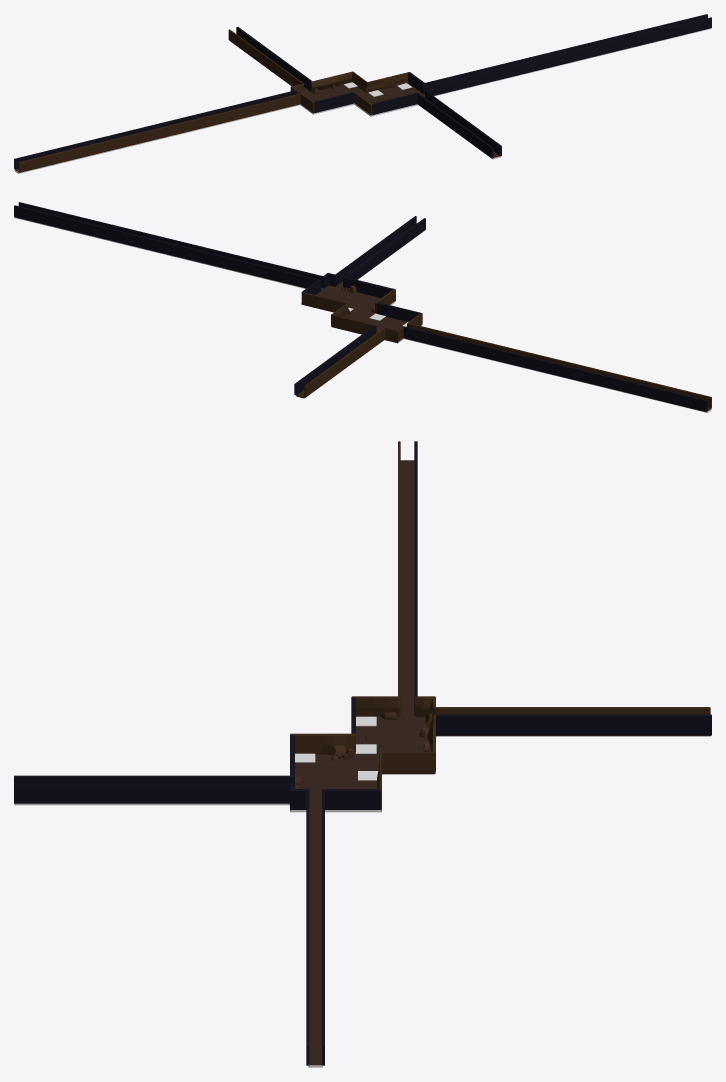
Rendered from sala15DET.fbx.
3 renders of one model, top to bottom at view 1: azimuth 30°, elevation 25°; view 2: azimuth 150°, elevation 25°; view 3: azimuth 270°, elevation 25°, orthographic. The views are drawn at different scales.
Visible parts, largest first — view 1: paredes_der_abajo15, paredes_izq_arriba15, suelo16; view 2: paredes_der_abajo15, paredes_izq_arriba15, suelo16; view 3: paredes_der_abajo15, suelo16, paredes_izq_arriba15.
Boxes of the visible parts, left/top/right/bottom form: paredes_der_abajo15: left=14, top=14, right=711, bottom=169; paredes_izq_arriba15: left=19, top=29, right=408, bottom=172; suelo16: left=14, top=28, right=710, bottom=173; paredes_der_abajo15: left=14, top=202, right=707, bottom=411; paredes_izq_arriba15: left=301, top=289, right=711, bottom=408; suelo16: left=15, top=217, right=711, bottom=412; paredes_der_abajo15: left=14, top=441, right=711, bottom=1065; suelo16: left=14, top=460, right=711, bottom=1067; paredes_izq_arriba15: left=290, top=441, right=710, bottom=809.
Bounding box in the file's own units: 40845 × 672 × 19893.
